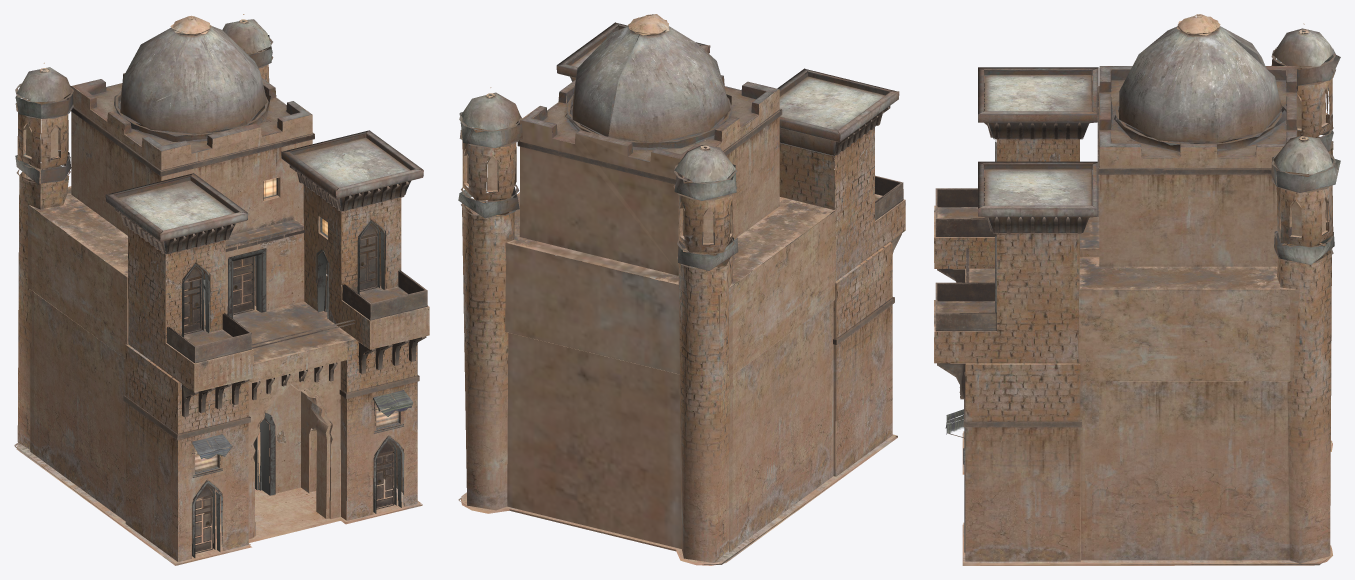
File: xi_dep_bunglow_low.gltf
The picture shows the model from 3 angles, left to right: view 1: azimuth 30°, elevation 25°; view 2: azimuth 150°, elevation 25°; view 3: azimuth 270°, elevation 25°; orthographic projection. The views are drawn at different scales.
Parts seen in each view (by area): view 1: xi_dep_bunglow; view 2: xi_dep_bunglow; view 3: xi_dep_bunglow.
Part boxes in pixels (left/top/right/bottom): xi_dep_bunglow: left=14, top=14, right=429, bottom=565; xi_dep_bunglow: left=458, top=14, right=905, bottom=565; xi_dep_bunglow: left=934, top=14, right=1340, bottom=565.
Size of the model in its own units: 9.58 by 15.3 by 11.64.
3 materials, 3 textured.
